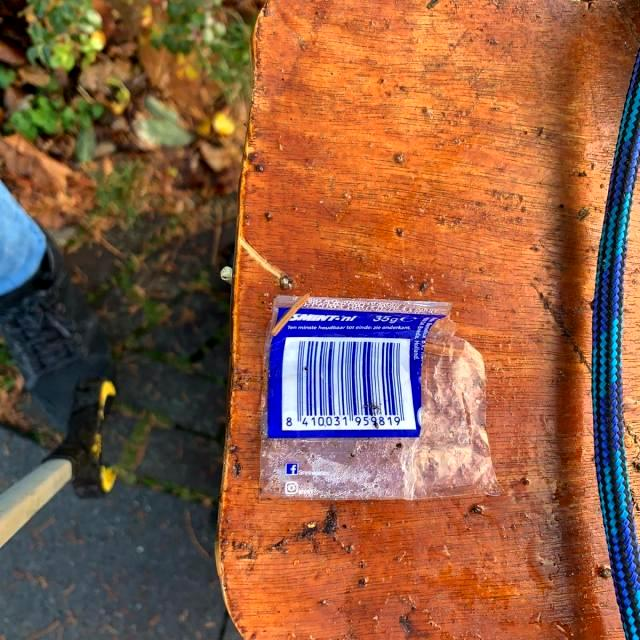Plastic: (253, 288, 504, 507)
